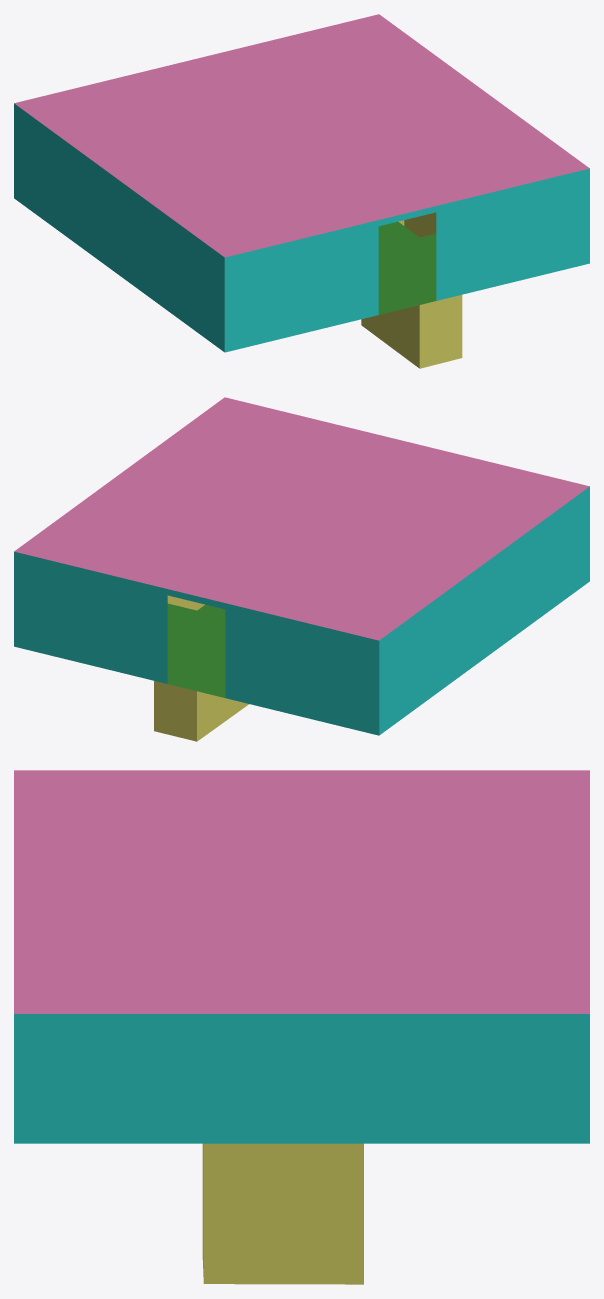
File: attempt_two.fbx
The picture shows the model from 3 angles, top to bottom: view 1: azimuth 30°, elevation 25°; view 2: azimuth 150°, elevation 25°; view 3: azimuth 270°, elevation 25°; orthographic projection. The views are drawn at different scales.
Visible parts, largest first — view 1: room; view 2: room; view 3: room.
Part boxes in pixels (x1,y1,x2,y2): room: (14, 14, 589, 368); room: (14, 397, 589, 741); room: (14, 770, 589, 1284).
Size of the model in its own units: 1810 by 1071 by 1810.
